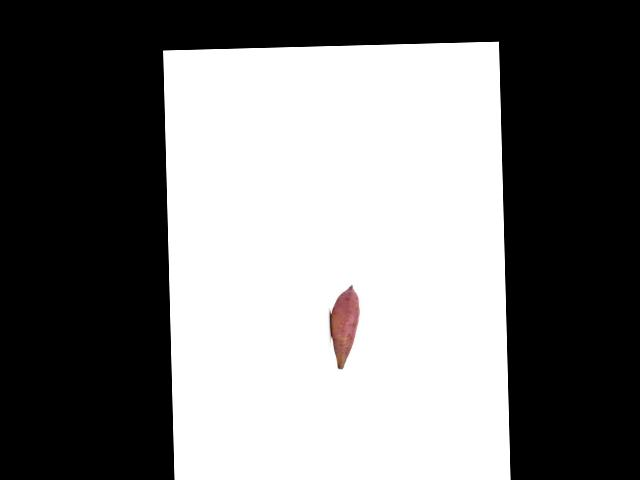sweet_potato: (331, 284, 360, 369)
